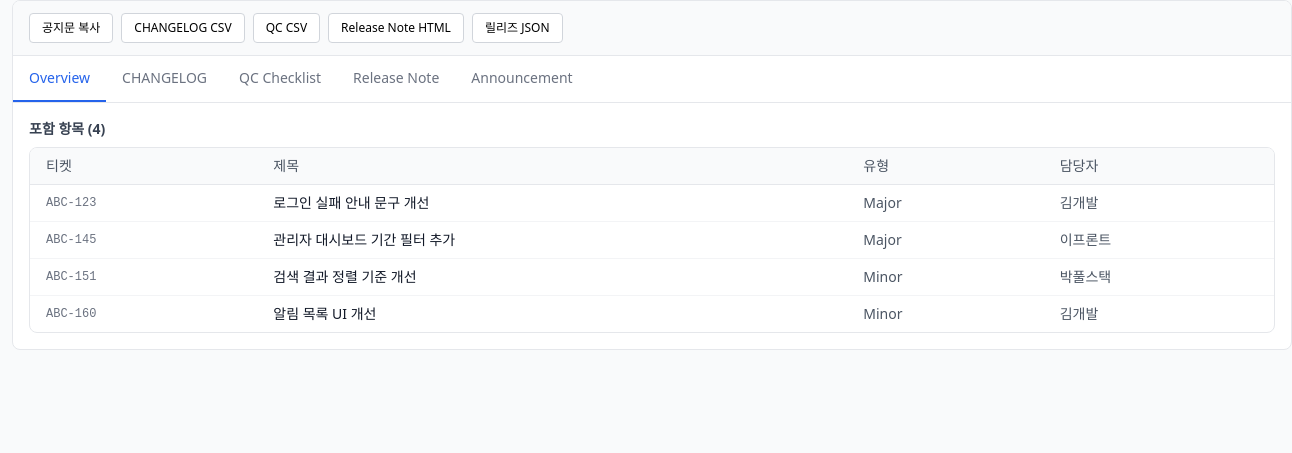
Test case: ReleaseDocumentTabs › switches to CHANGELOG tab and shows grouped changelog
Click the tab "CHANGELOG". click: (165, 79)
box: [106, 56, 223, 102]
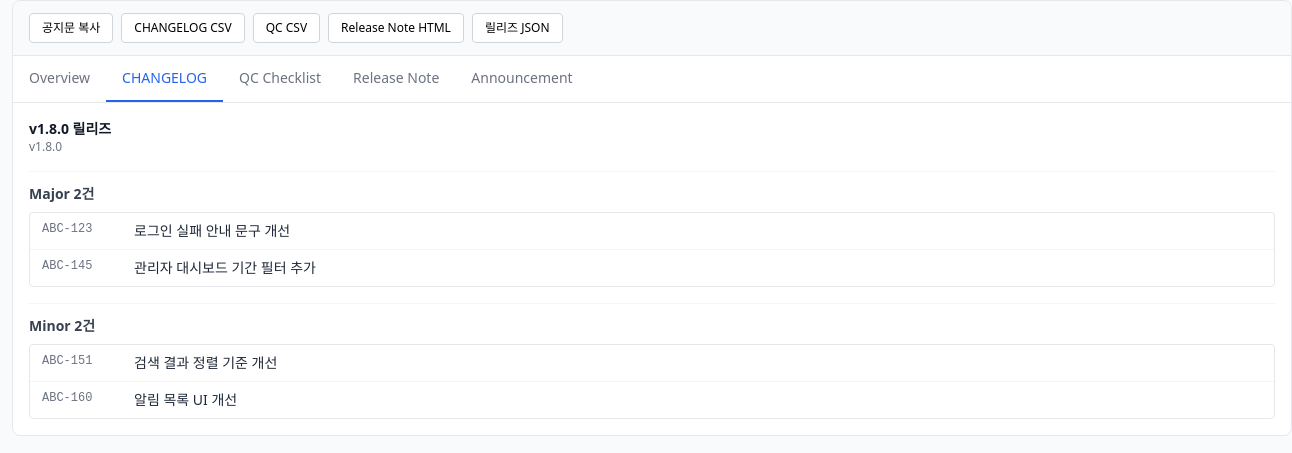
Result: the text "v1.8.0 릴리즈" is shown at [29, 119, 111, 138]
Result: the heading "Major 2건" is shown at [29, 184, 94, 203]
Result: the heading "Minor 2건" is shown at [29, 316, 95, 335]
